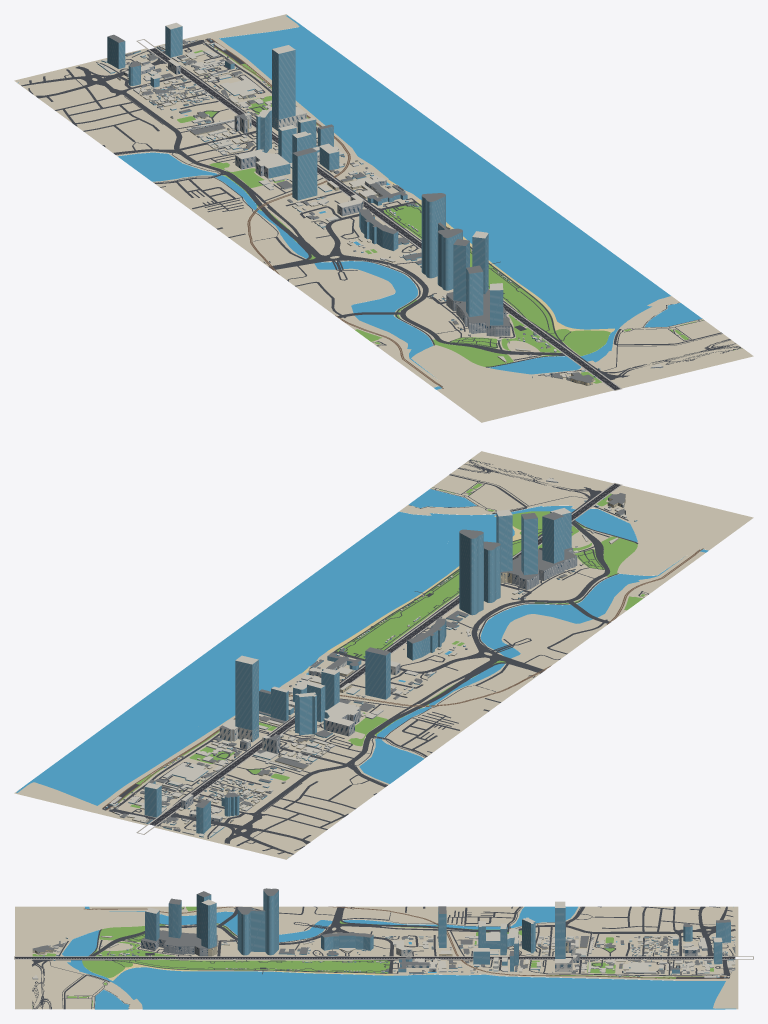
Rendered from colombo_route.glb.
The picture shows the model from 3 angles, top to bottom: view 1: azimuth 30°, elevation 25°; view 2: azimuth 150°, elevation 25°; view 3: azimuth 270°, elevation 25°; orthographic projection. The views are drawn at different scales.
Visible parts, largest first — view 1: chunk08_ground, chunk07_water, chunk11_asphalt, chunk17_water, chunk02_ground, chunk11_ground, chunk06_water, chunk05_grass, chunk07_asphalt, chunk06_wall_glass, chunk13_water, chunk15_wall_glass (+15 smaller); view 2: chunk08_ground, chunk07_water, chunk11_asphalt, chunk17_water, chunk02_ground, chunk11_ground, chunk06_water, chunk07_asphalt, chunk05_grass, chunk06_wall_glass, chunk04_wall_glass, chunk13_water (+17 smaller); view 3: chunk08_ground, chunk07_water, chunk17_water, chunk11_asphalt, chunk11_ground, chunk02_ground, chunk05_grass, chunk07_asphalt, chunk06_wall_glass, chunk10_sidewalk, chunk06_water, chunk13_water (+30 smaller).
Boxes of the visible parts, x1,y1,x2,y2 form: chunk08_ground: (14,48,612,422); chunk07_water: (316,109,670,374); chunk11_asphalt: (21,54,564,360); chunk17_water: (219,15,415,116); chunk02_ground: (587,296,753,388); chunk11_ground: (155,14,580,356); chunk06_water: (268,220,433,376); chunk05_grass: (384,203,610,356); chunk07_asphalt: (162,38,740,379); chunk06_wall_glass: (421,195,462,290); chunk13_water: (118,152,270,220); chunk15_wall_glass: (200,49,295,144); chunk08_ground: (155,485,753,859); chunk07_water: (144,506,637,731); chunk11_asphalt: (161,521,618,854); chunk17_water: (16,698,209,805); chunk02_ground: (399,451,612,515); chunk11_ground: (14,594,459,825); chunk06_water: (444,557,683,696); chunk07_asphalt: (102,460,601,819); chunk05_grass: (335,511,580,658); chunk06_wall_glass: (459,532,500,615); chunk04_wall_glass: (521,515,564,579); chunk13_water: (359,696,445,783); chunk08_ground: (15,906,738,956); chunk07_water: (62,930,563,1009); chunk17_water: (538,978,735,1009); chunk11_asphalt: (90,906,735,973); chunk11_ground: (82,959,738,1009); chunk02_ground: (15,959,142,1009); chunk05_grass: (82,923,389,977); chunk07_asphalt: (32,959,730,1009); chunk06_wall_glass: (237,890,278,955); chunk10_sidewalk: (14,956,753,959); chunk06_water: (109,911,417,942); chunk13_water: (418,906,577,929).
Bounding box in the file's own units: 840 × 229 × 2554.
15 materials, 4 textured.
